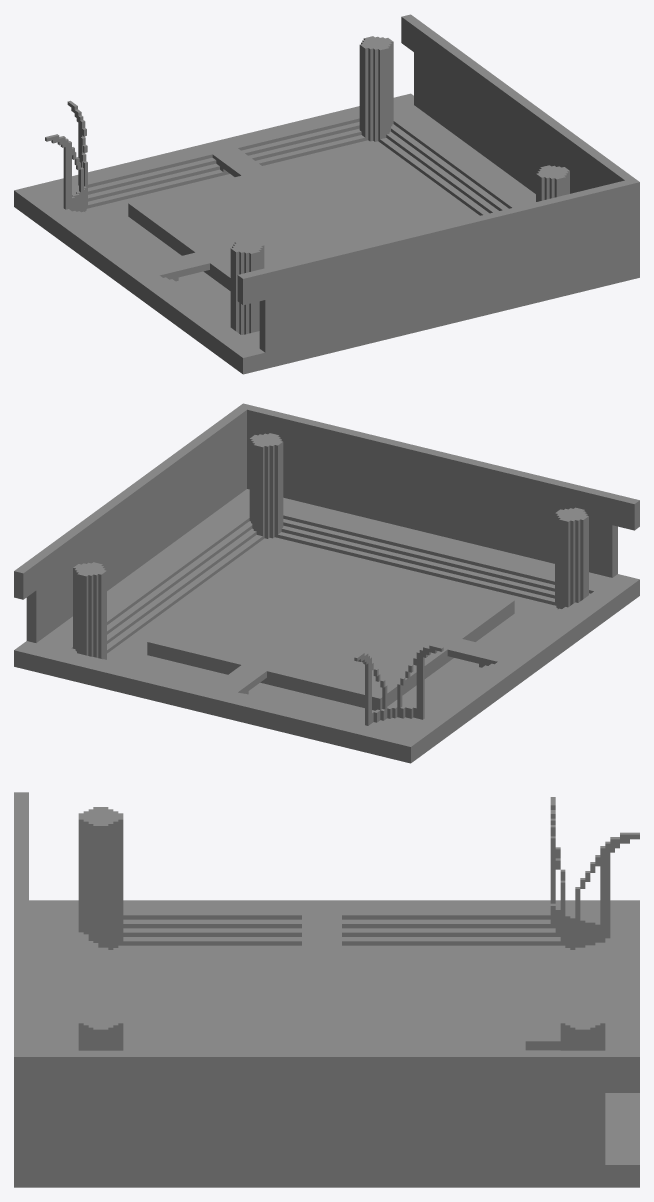
The model's file is Room_01-3.obj.
3 renders of one model, top to bottom at view 1: azimuth 30°, elevation 25°; view 2: azimuth 150°, elevation 25°; view 3: azimuth 270°, elevation 25°, orthographic. The views are drawn at different scales.
Bounding box in the file's own units: 12.6 × 2.9 × 12.6.
Materials: 1 (1 with a texture image).
